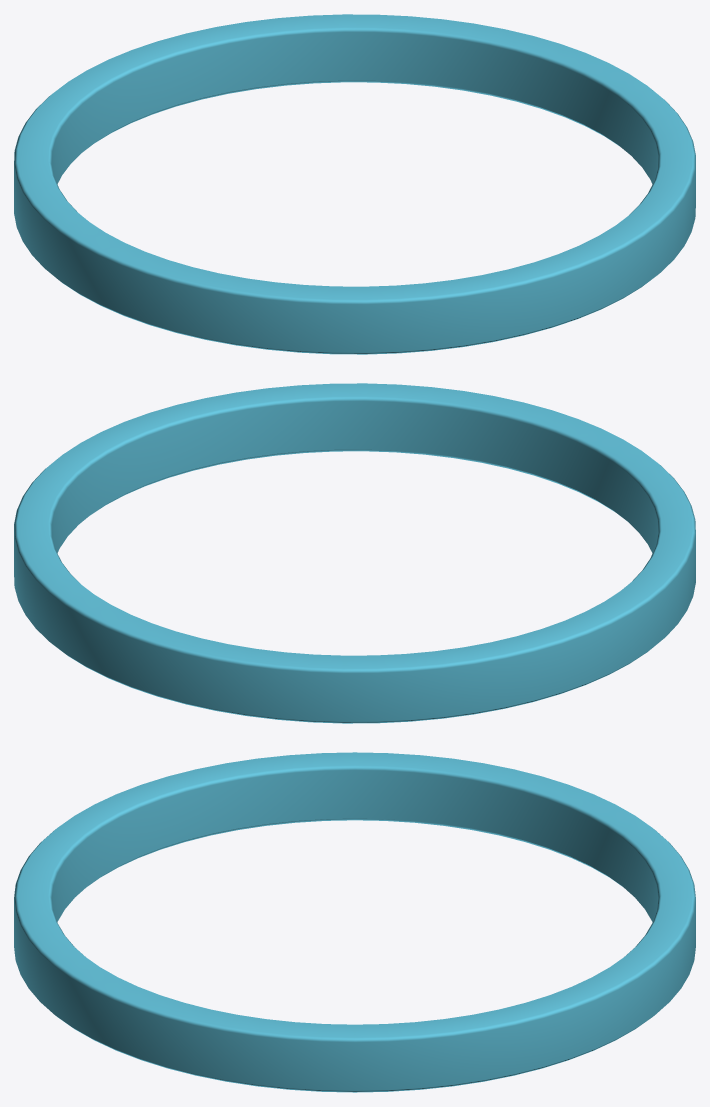
3 views of the same model, one above another, from view 1: azimuth 30°, elevation 25°; view 2: azimuth 150°, elevation 25°; view 3: azimuth 270°, elevation 25° (orthographic).
Parts seen in each view (by area): view 1: seal_body; view 2: seal_body; view 3: seal_body.
Part boxes in pixels (x1,y1,x2,y2): seal_body: [14, 14, 695, 354]; seal_body: [14, 383, 695, 723]; seal_body: [14, 752, 695, 1092].
Size of the model in its own units: 0.09 by 0.008 by 0.09.
